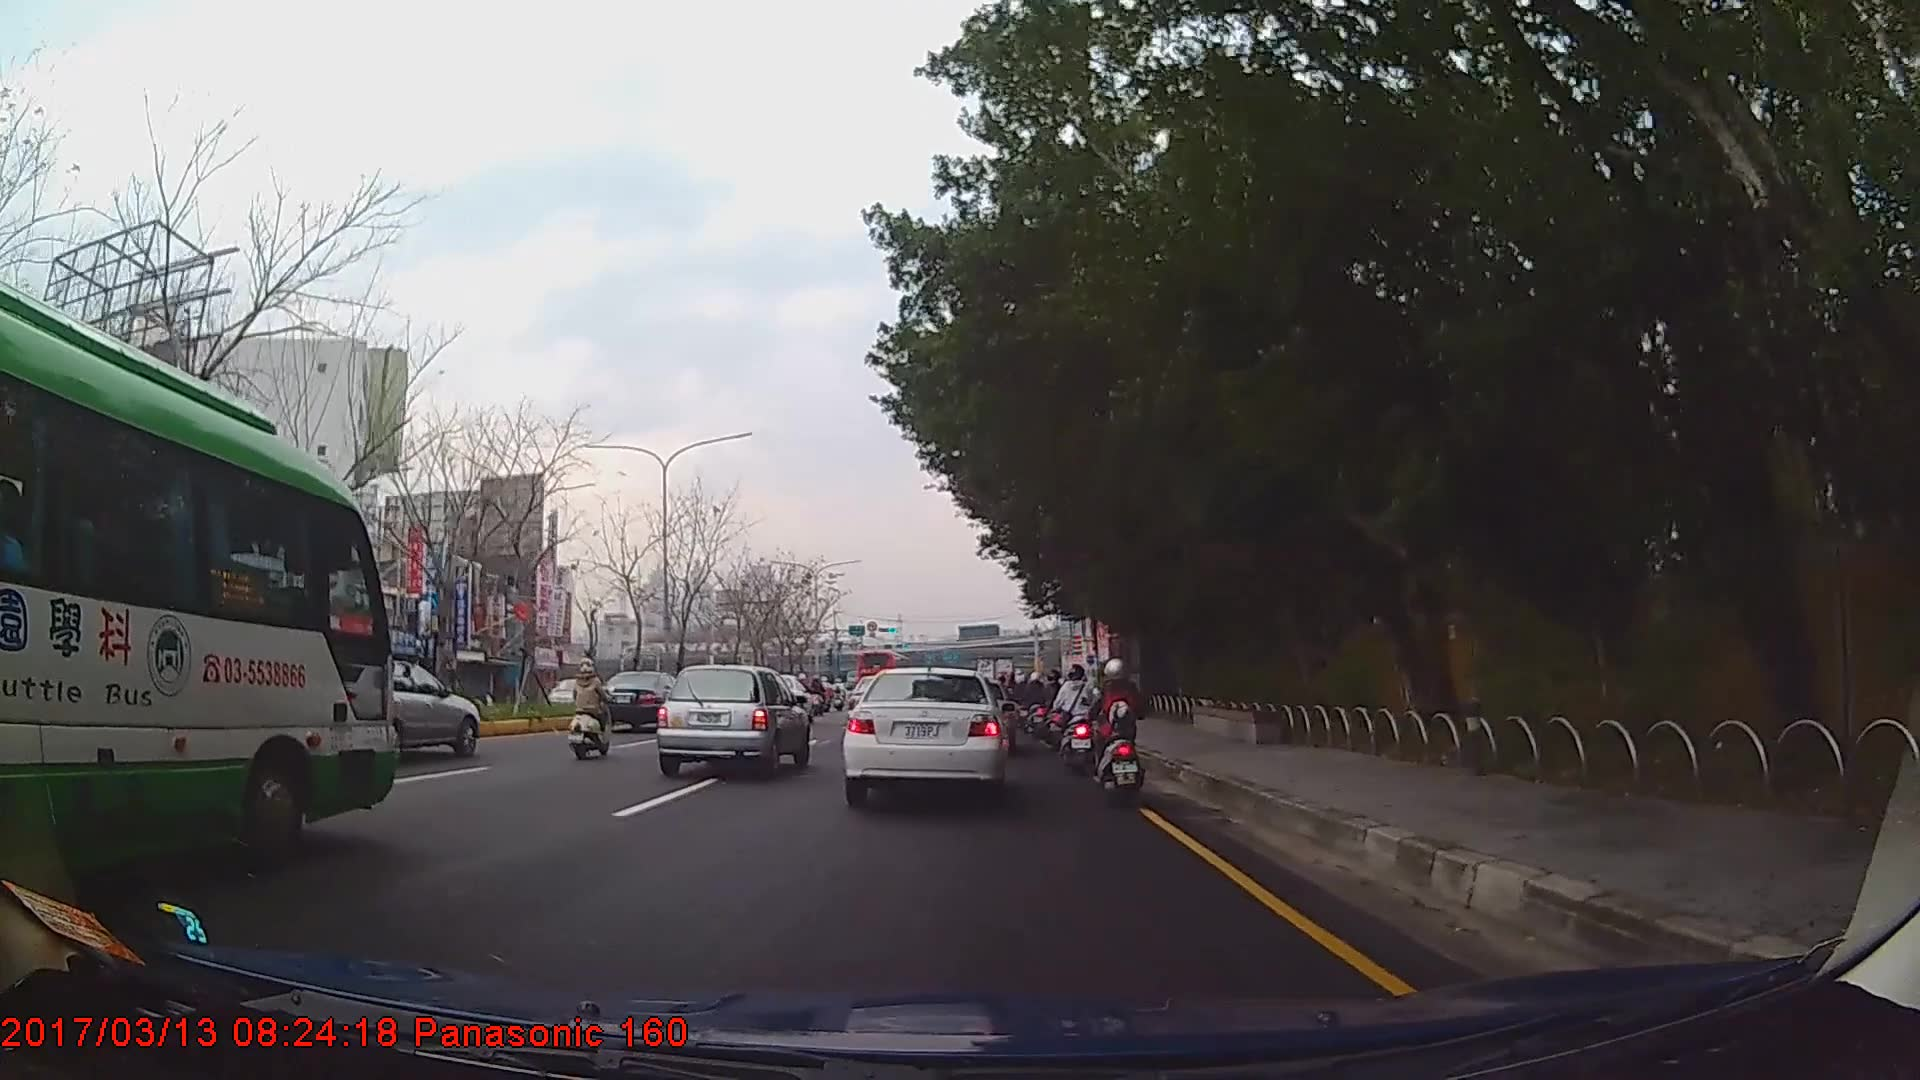rider: (1088, 656, 1151, 812), (1057, 665, 1102, 775), (571, 662, 614, 760), (1043, 668, 1067, 748)
vehicle: (0, 279, 399, 892), (838, 665, 1010, 808), (658, 662, 812, 778), (336, 659, 480, 759), (598, 669, 687, 732), (857, 648, 910, 697)
